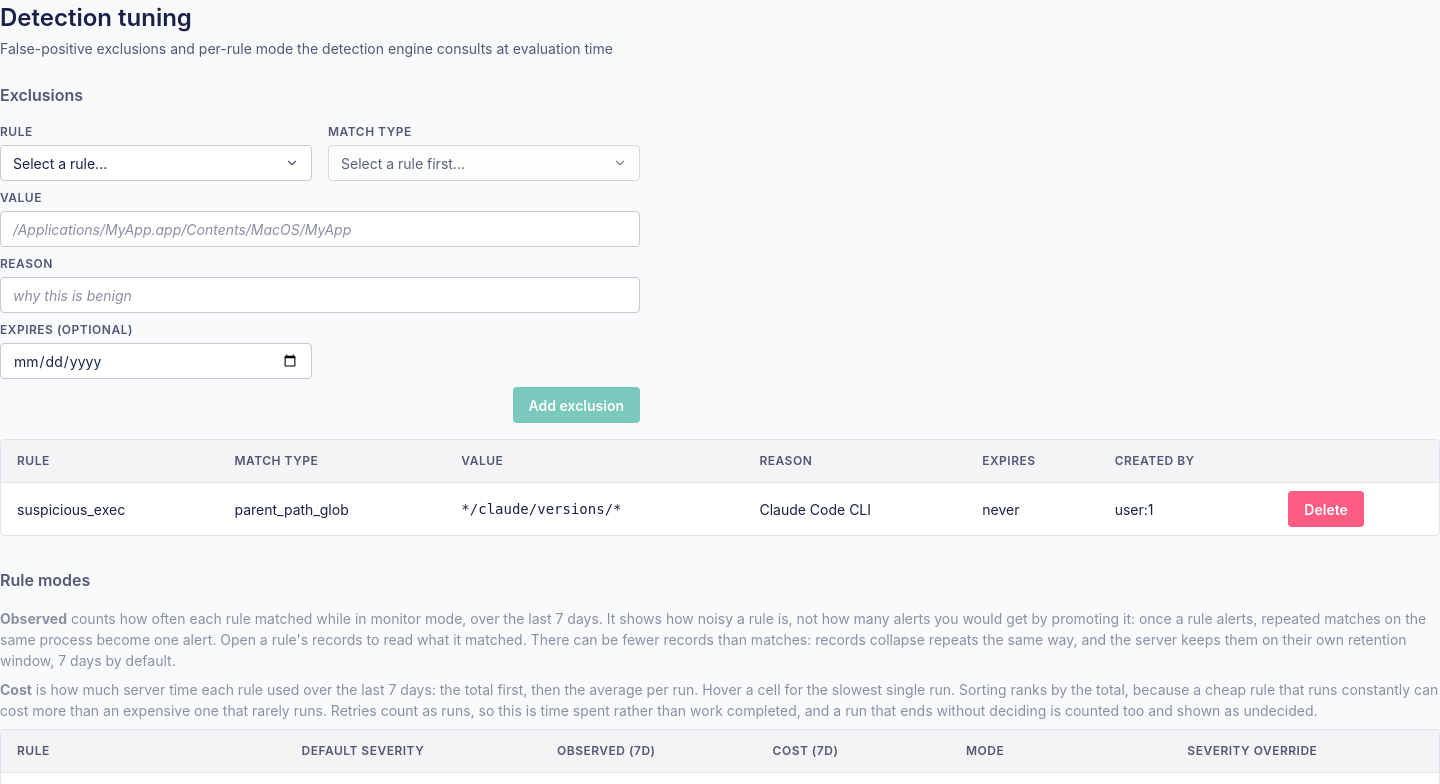
Test: DetectionConfig › asks the operator to confirm their identity when a change needs a fresh sign-in
Expected: the text "*/claude/versions/*" is shown, [461, 500, 622, 516]
What coordinates should you click on to do the following:
click the button "Delete"
I would click on:
 (1326, 509)
Its box is [1288, 491, 1364, 527].
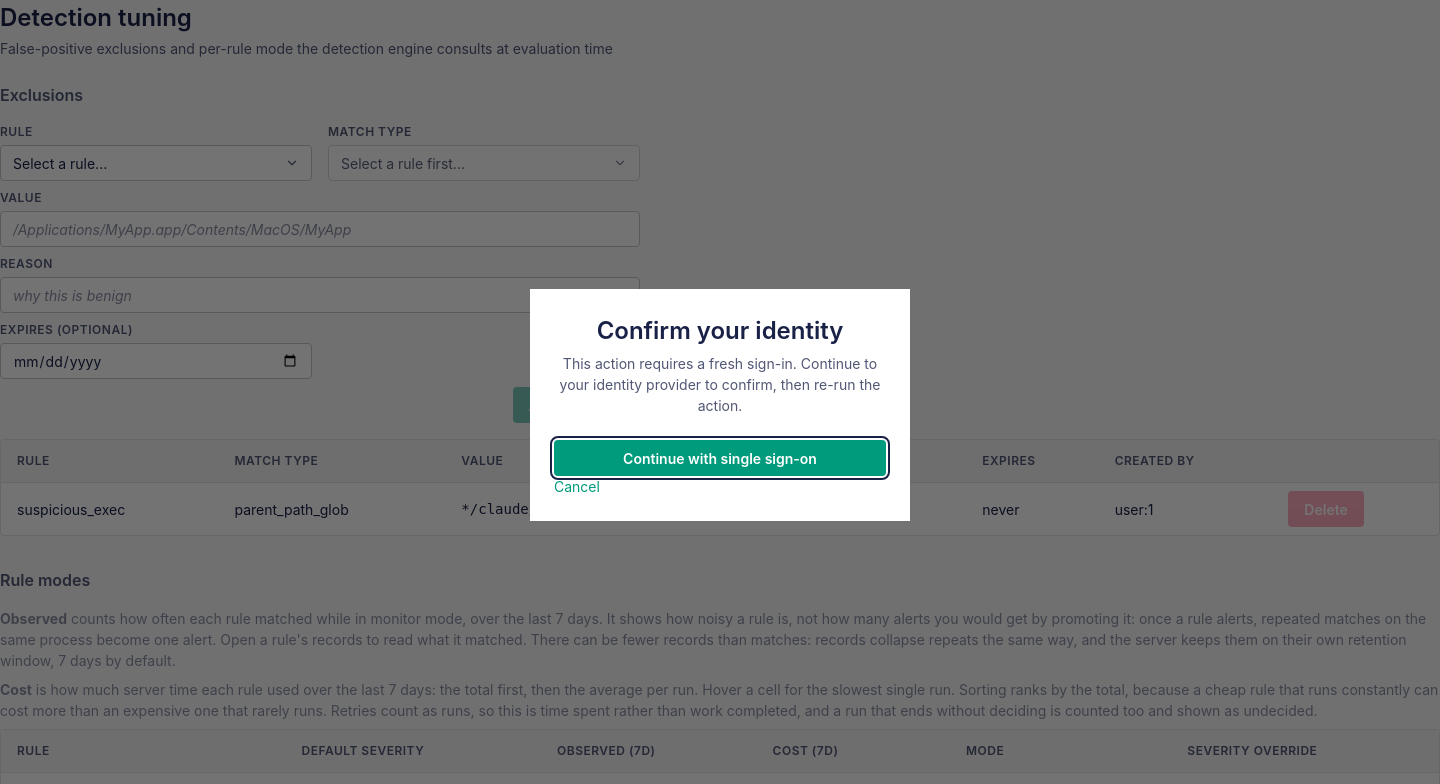
Expected: the heading "Confirm your identity" is shown, [597, 313, 843, 349]
